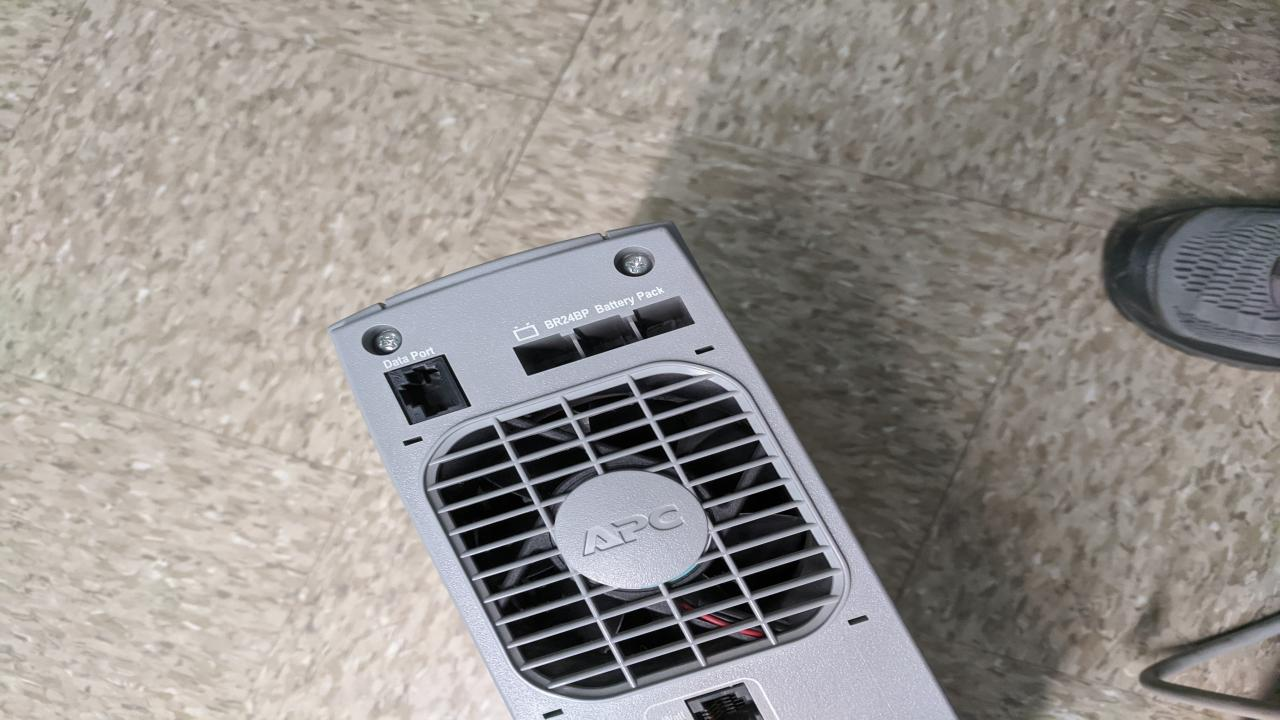CRS: (614, 246, 655, 278), (367, 326, 405, 356)
